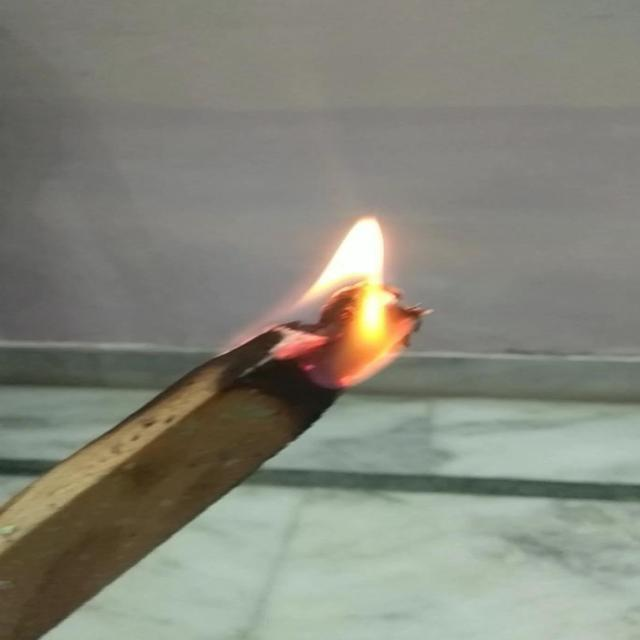smoke: (224, 206, 453, 389)
